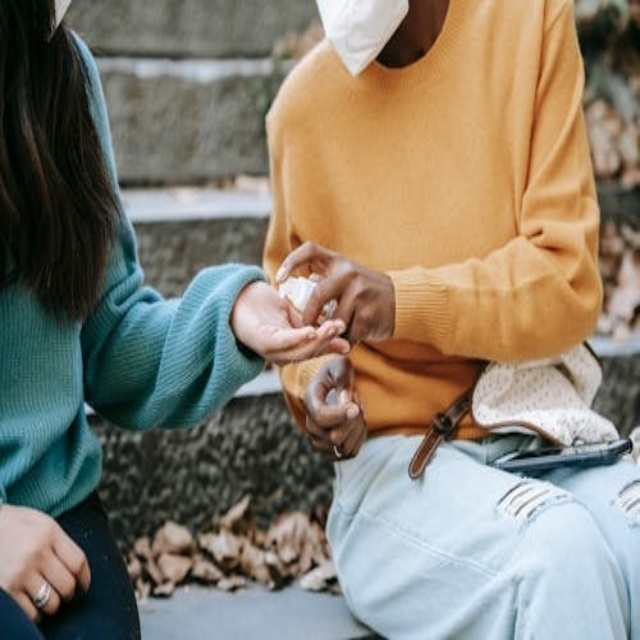Mascara: (311, 0, 412, 79)
Sin_guantes: (271, 225, 396, 344), (0, 501, 94, 627), (233, 272, 347, 368), (300, 352, 367, 463)
